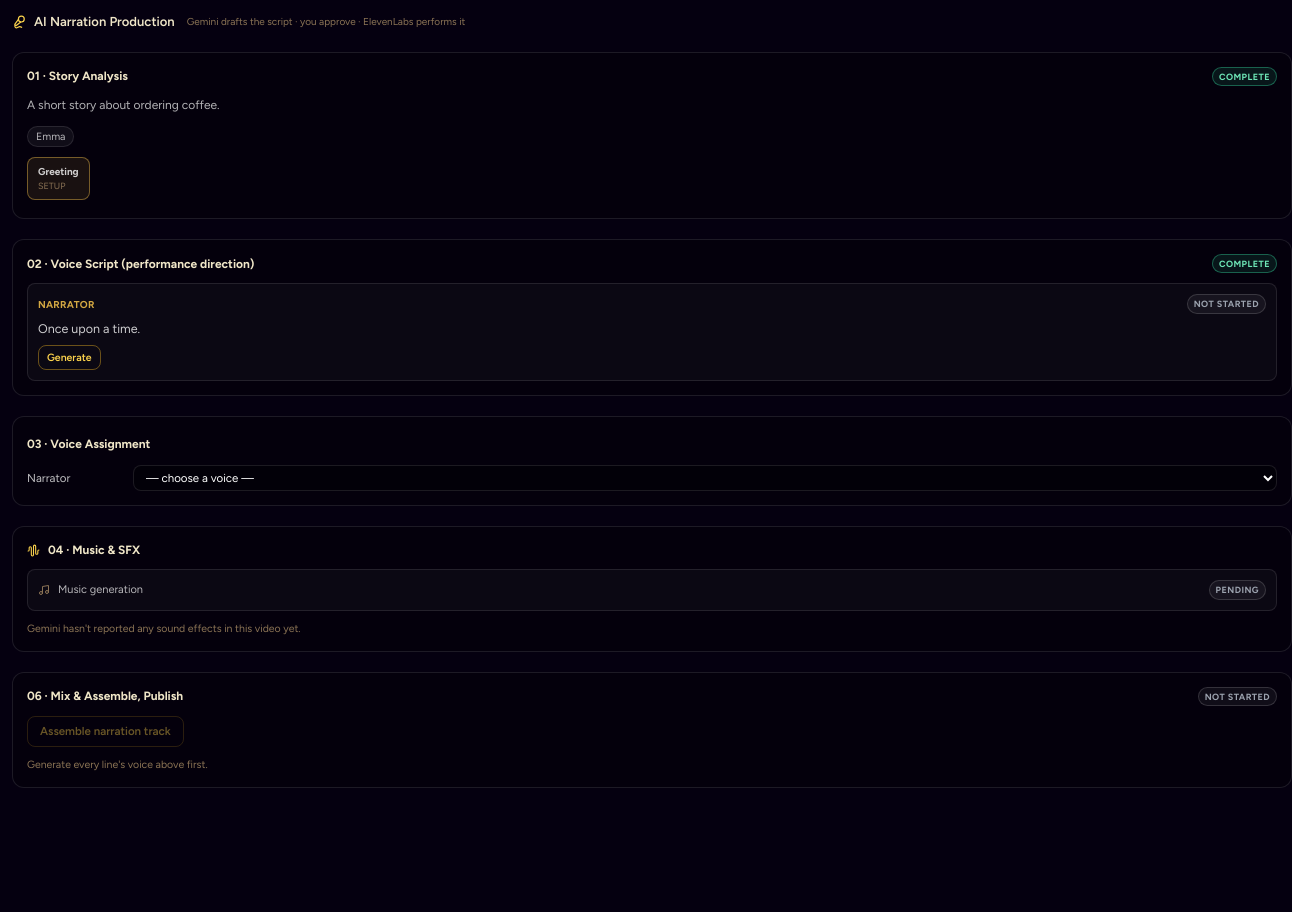
Test: clicking Generate calls generateLineVoice with the right scene/line ids
The width and height of the screenshot is (1292, 912).
Click the button with test id "voice-generate-ln_1". click: (69,357)
box: [38,344,100,370]
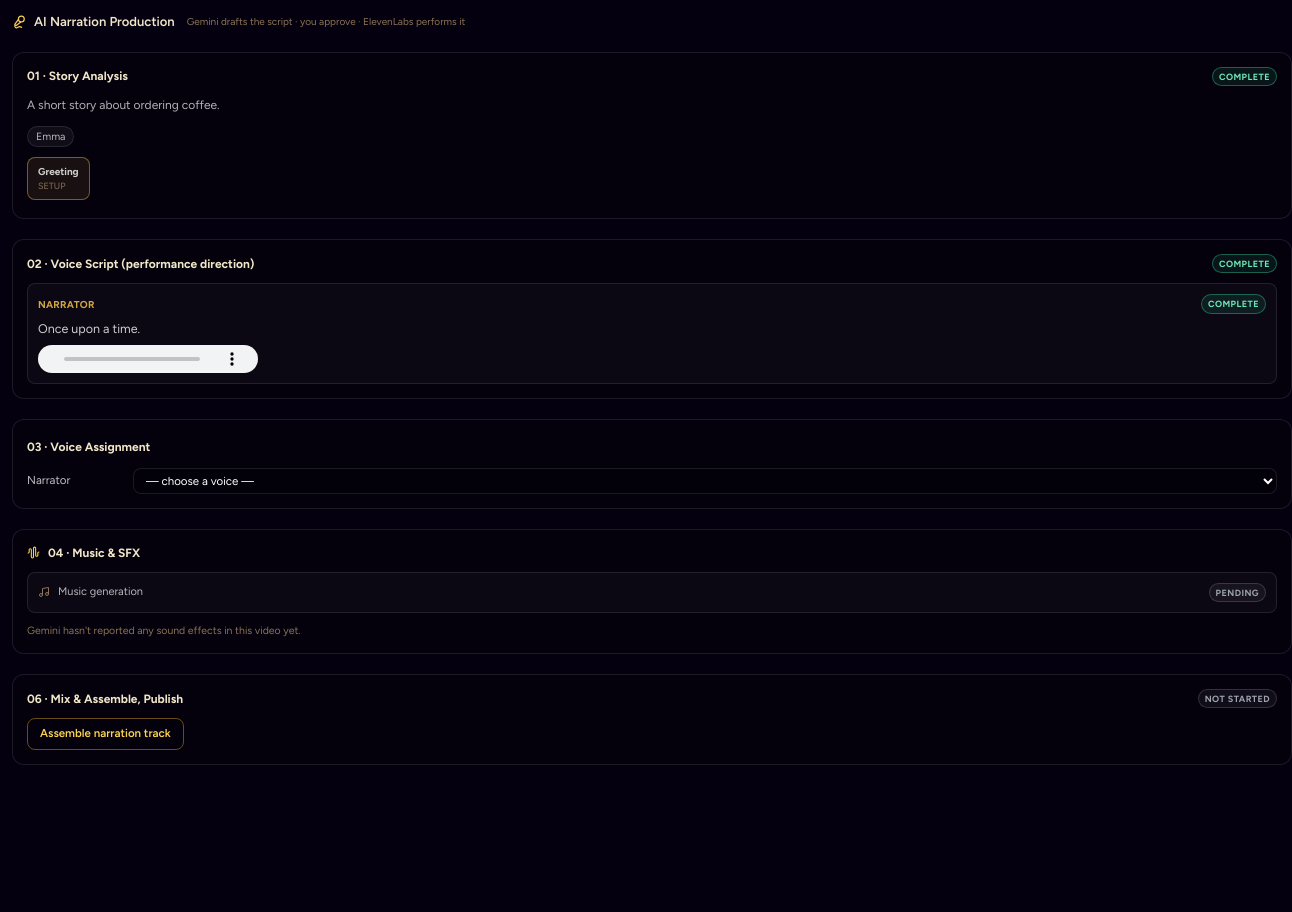
Now the element with test id "voice-line-audio-ln_1" is shown, box [38,344,258,372]
